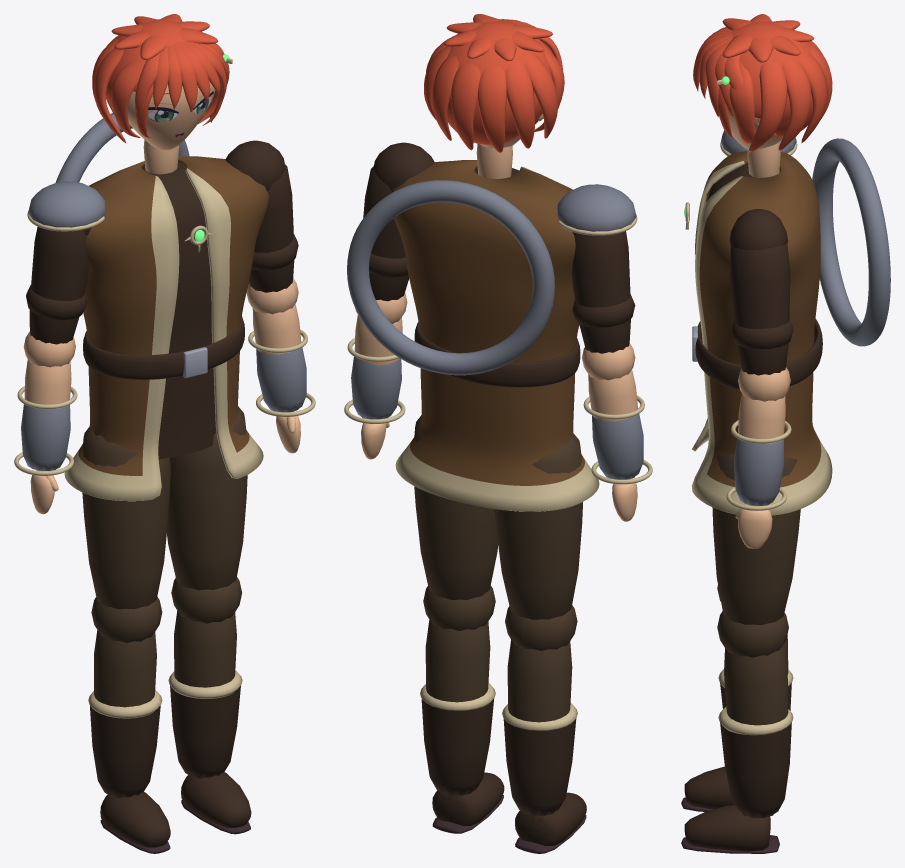
Rendered from brakk.glb.
The picture shows the model from 3 angles, left to right: view 1: azimuth 30°, elevation 25°; view 2: azimuth 150°, elevation 25°; view 3: azimuth 270°, elevation 25°; orthographic projection. The views are drawn at different scales.
Parts seen in each view (by area): view 1: brakk:body.mesh, brakk:shinL.mesh, brakk:shinR.mesh, brakk:head.mesh, brakk:legL.mesh, brakk:legR.mesh, brakk:armL.mesh, brakk:foreL.mesh, brakk:foreR.mesh, brakk:armR.mesh; view 2: brakk:body.mesh, brakk:head.mesh, brakk:shinL.mesh, brakk:shinR.mesh, brakk:armL.mesh, brakk:legL.mesh, brakk:foreL.mesh, brakk:legR.mesh, brakk:foreR.mesh, brakk:armR.mesh; view 3: brakk:body.mesh, brakk:shinR.mesh, brakk:head.mesh, brakk:armR.mesh, brakk:legR.mesh, brakk:foreR.mesh, brakk:shinL.mesh, brakk:armL.mesh.
Boxes of the visible parts, x1,y1,x2,y2 form: brakk:body.mesh: (55, 112, 269, 501); brakk:shinL.mesh: (88, 597, 170, 853); brakk:shinR.mesh: (168, 577, 251, 834); brakk:head.mesh: (92, 14, 232, 174); brakk:legL.mesh: (82, 427, 170, 609); brakk:legR.mesh: (167, 406, 247, 590); brakk:armL.mesh: (26, 181, 105, 344); brakk:foreL.mesh: (14, 331, 77, 514); brakk:foreR.mesh: (246, 278, 315, 453); brakk:armR.mesh: (225, 140, 298, 292); brakk:body.mesh: (347, 160, 599, 511); brakk:head.mesh: (424, 14, 564, 178); brakk:shinL.mesh: (502, 605, 586, 853); brakk:shinR.mesh: (420, 585, 504, 833); brakk:armL.mesh: (557, 184, 637, 353); brakk:legL.mesh: (494, 433, 582, 619); brakk:foreL.mesh: (582, 343, 652, 521); brakk:legR.mesh: (414, 415, 498, 599); brakk:foreR.mesh: (344, 293, 407, 459); brakk:armR.mesh: (363, 142, 434, 301); brakk:body.mesh: (684, 138, 890, 515); brakk:shinR.mesh: (681, 611, 793, 853); brakk:head.mesh: (693, 14, 832, 177); brakk:armR.mesh: (729, 209, 793, 375); brakk:legR.mesh: (712, 454, 800, 625); brakk:foreR.mesh: (726, 367, 791, 548); brakk:shinL.mesh: (681, 585, 793, 811); brakk:armL.mesh: (720, 130, 797, 156).
Size of the model in its own units: 0.7266 by 1.88 by 0.4444.
Materials: 21 (1 with a texture image).
